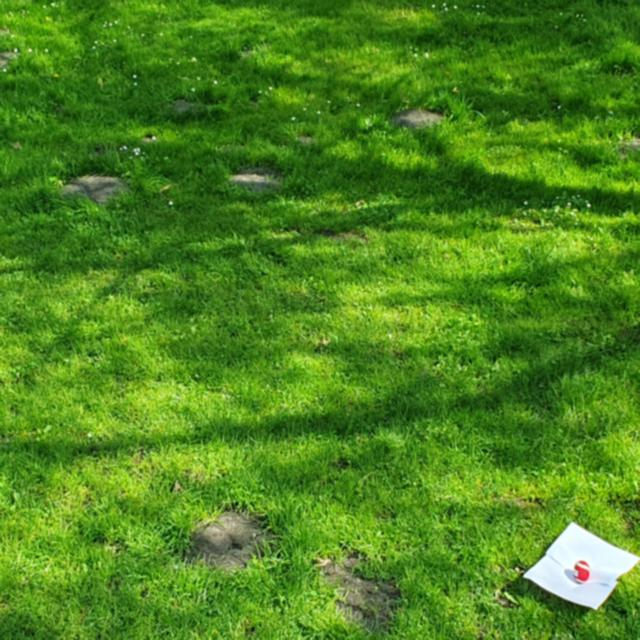red: (574, 560, 590, 584)
